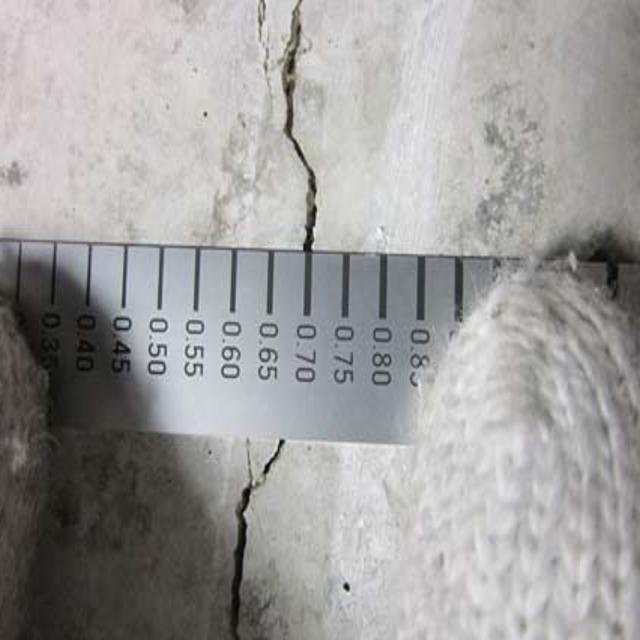crack: (244, 7, 336, 257), (198, 433, 293, 640)
